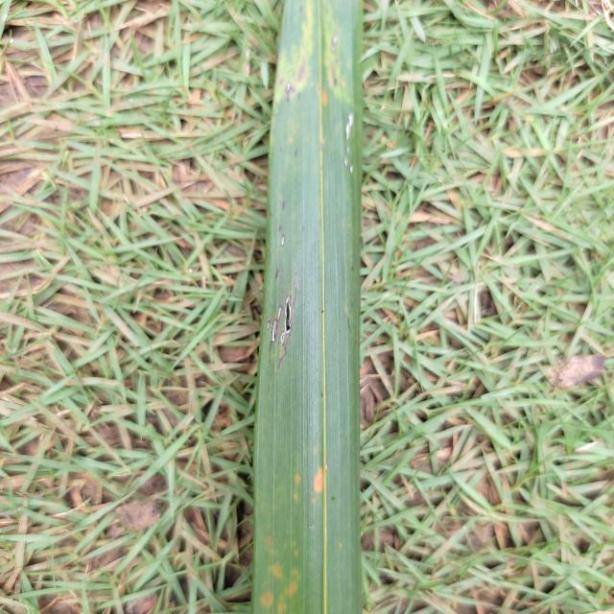Kalium: (251, 0, 368, 614)
